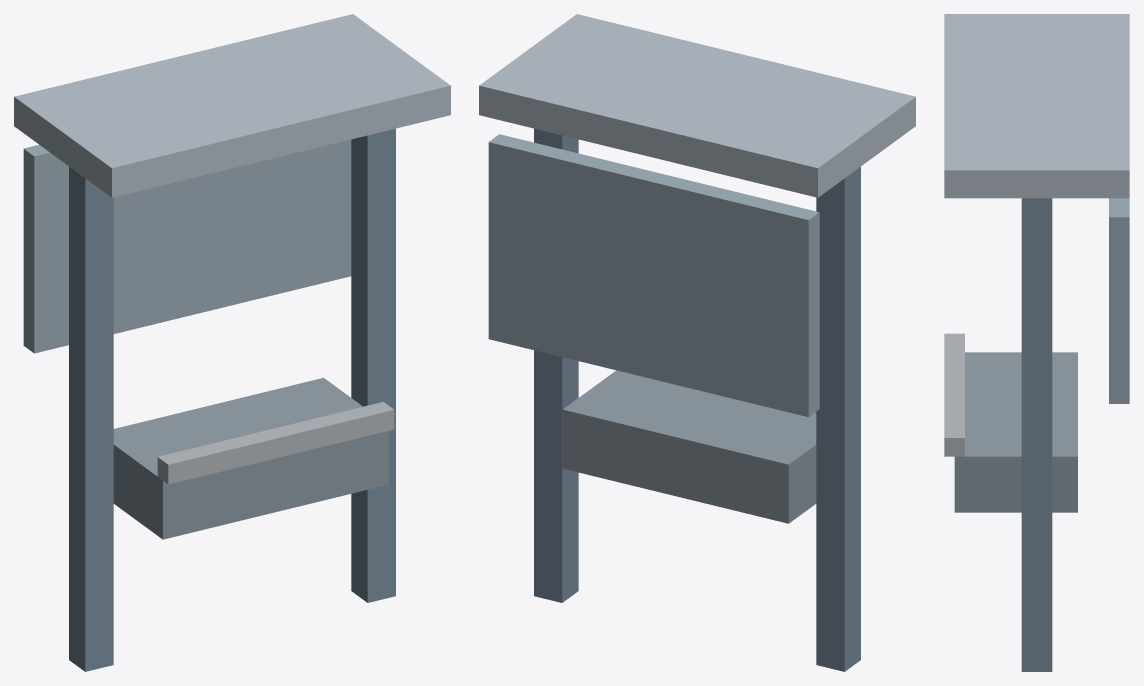
File: bus_stop.glb
3 renders of one model, left to right at view 1: azimuth 30°, elevation 25°; view 2: azimuth 150°, elevation 25°; view 3: azimuth 270°, elevation 25°, orthographic. The views are drawn at different scales.
Visible parts, largest first — view 1: world; view 2: world; view 3: world.
Part boxes in pixels (box(x1,y1,x2,y2)): world: box(14, 14, 450, 671); world: box(479, 14, 915, 671); world: box(944, 14, 1129, 671).
Bounding box in the file's own units: 0.36 × 0.545 × 0.18.
